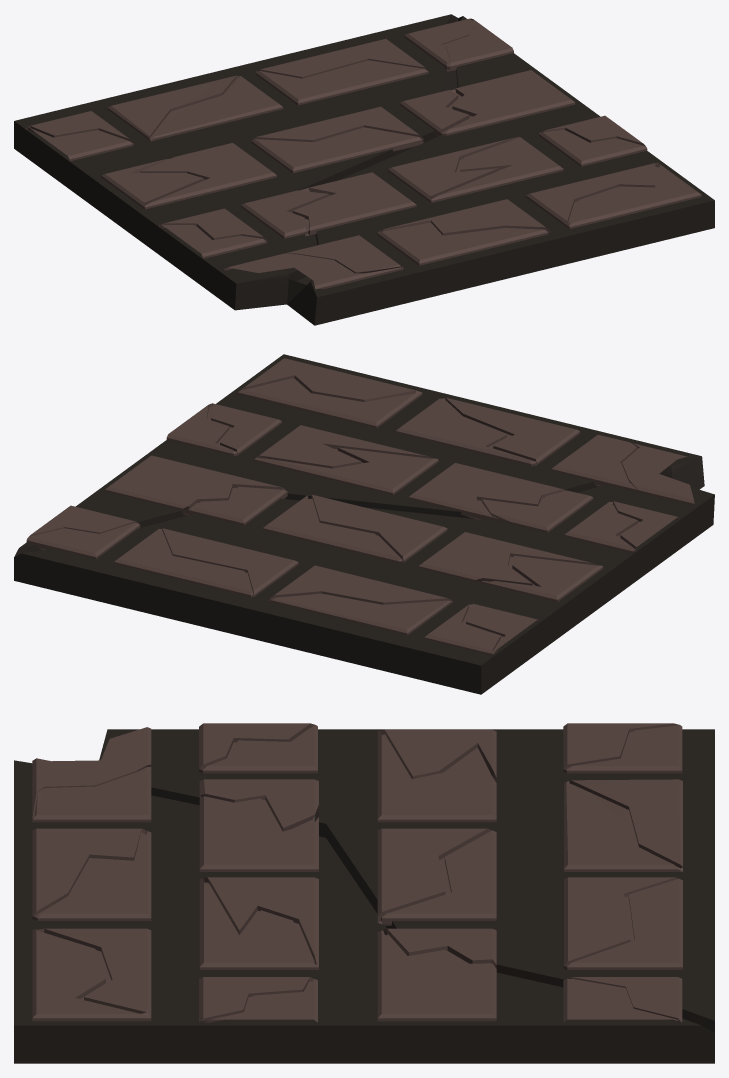
The model's file is Pared rota v3.fbx.
The picture shows the model from 3 angles, top to bottom: view 1: azimuth 30°, elevation 25°; view 2: azimuth 150°, elevation 25°; view 3: azimuth 270°, elevation 25°; orthographic projection. The views are drawn at different scales.
Parts seen in each view (by area): view 1: polySurface273; view 2: polySurface273; view 3: polySurface273.
Boxes of the visible parts, left/top/right/bottom form: polySurface273: left=14, top=14, right=714, bottom=325; polySurface273: left=14, top=354, right=714, bottom=694; polySurface273: left=14, top=723, right=714, bottom=1063.
Bounding box in the file's own units: 2.99 × 0.2106 × 2.99.
